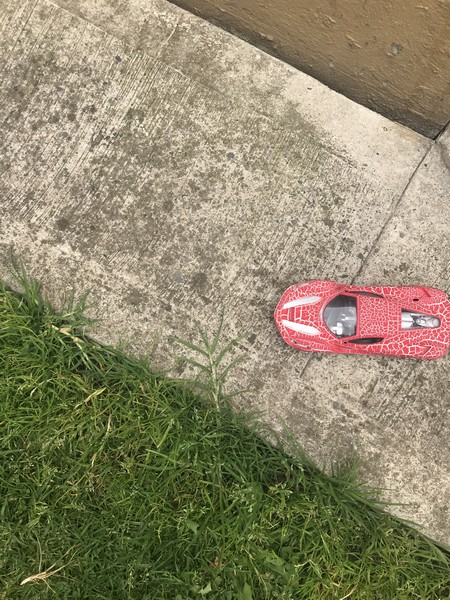RC: (273, 276, 450, 363)
